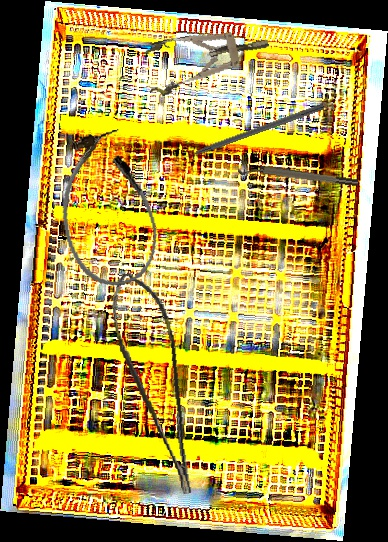Cannula: (48, 125, 166, 294)
Fixation Ring: (237, 158, 359, 194)
Hook Surgical: (175, 101, 325, 163)
Micro Scissor: (104, 267, 200, 502)
Speculum: (139, 17, 275, 99)
